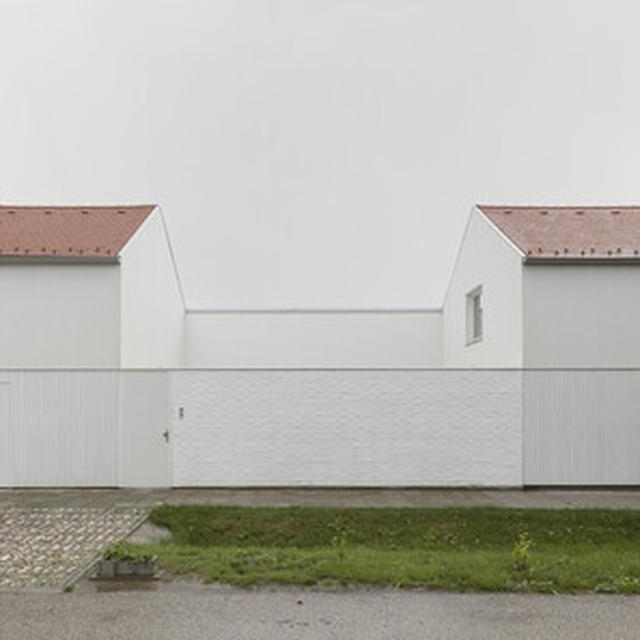building: (1, 192, 640, 510)
